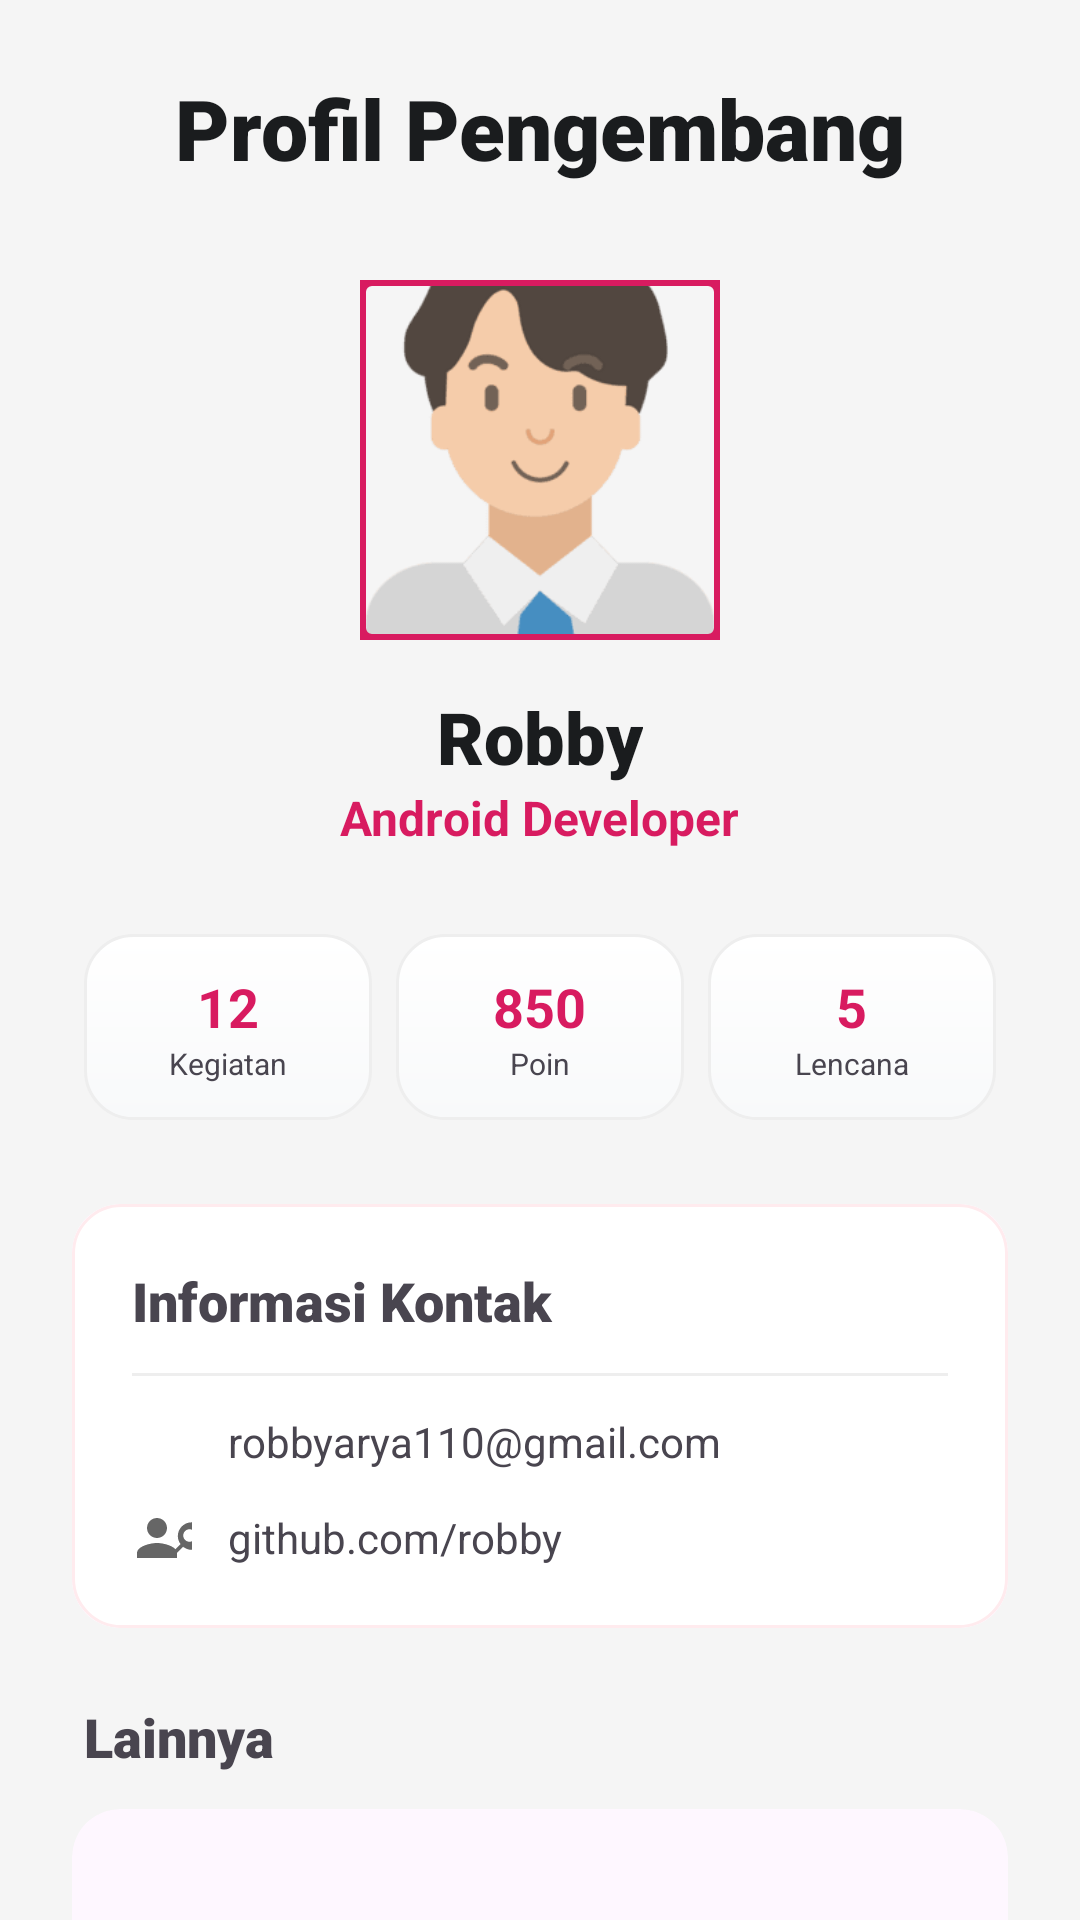

Named icons in this screenshot (1080×1920) and their centers, point (x, y):
person search: point (164, 1538)
